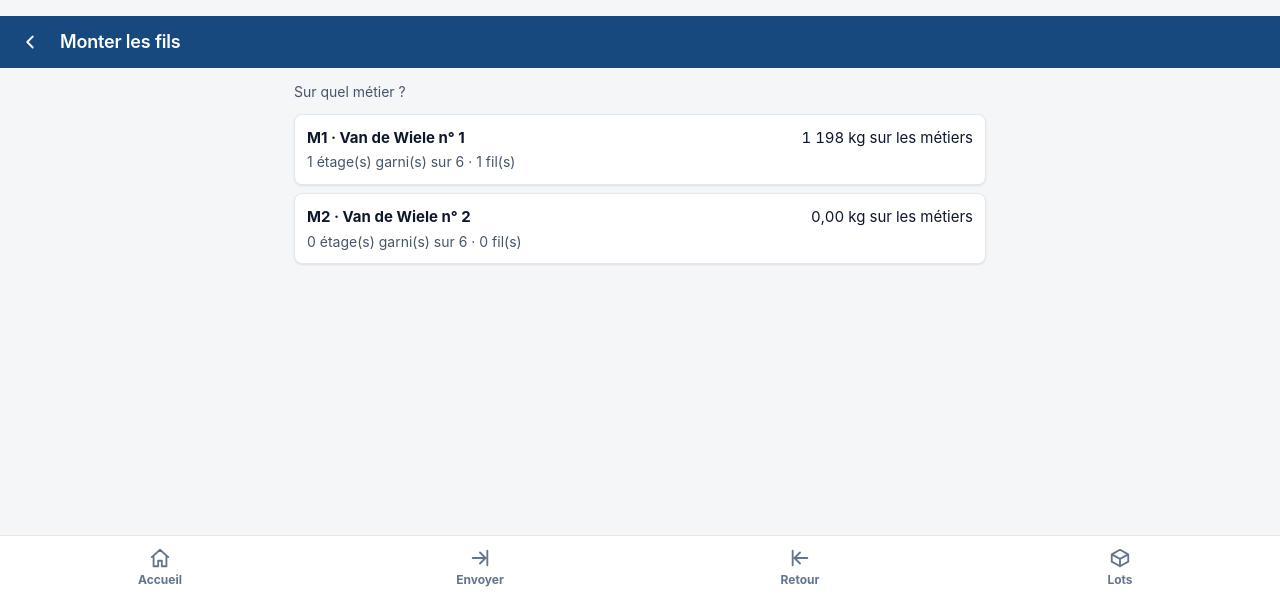
Test case: Monter les fils › les métiers en service, « sur les métiers », puis les étages
The image size is (1280, 599).
(page scrolled)
Click the link "M1 · Van de Wiele n° 1" at [386, 137], box [294,114,986,185]
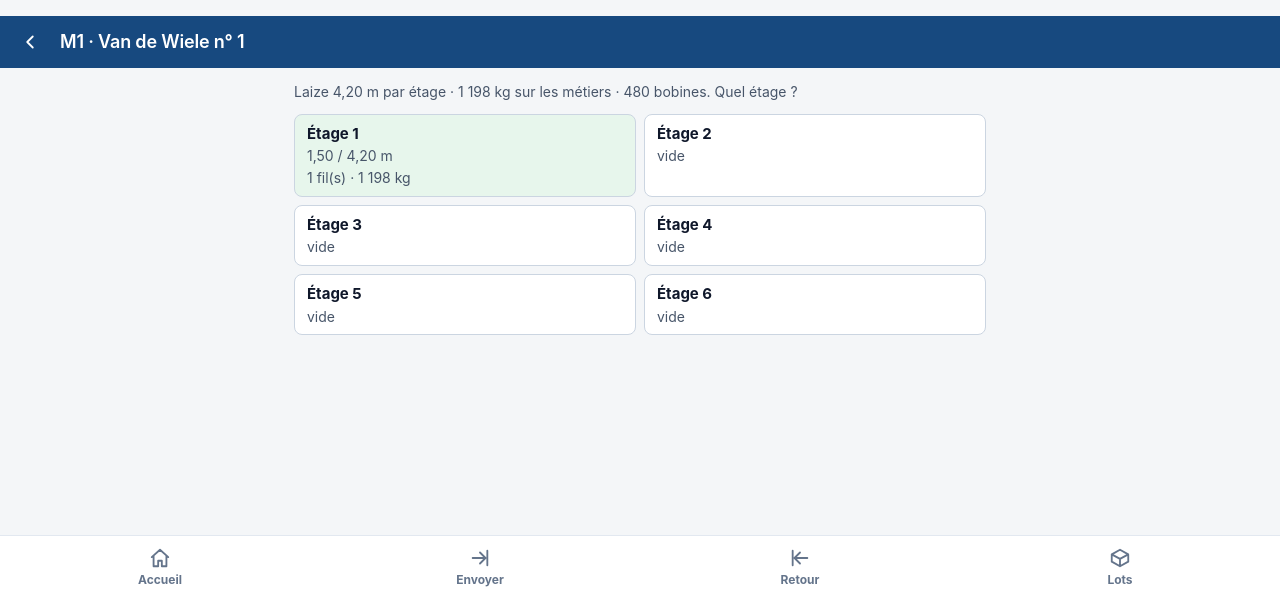
Result: the link "Étage 1 1,50 / 4,20 m 1 fil(s) · 1 198 kg" is shown at [294,114,636,196]
Result: the number of links "Étage 2 vide" is 5 at [644,114,986,196]; [294,204,636,266]; [644,204,986,266]; [294,274,636,335]; [644,274,986,335]
